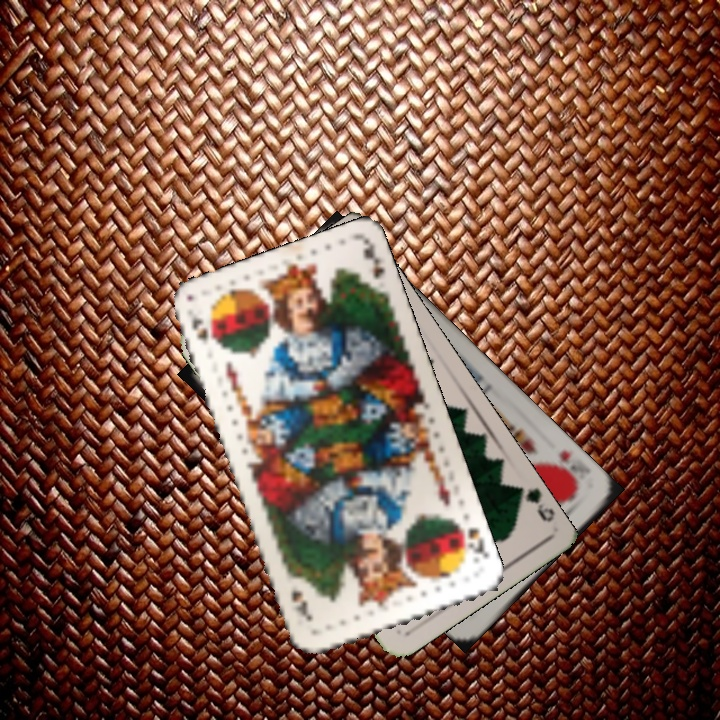G9: (510, 482, 557, 525)
HK: (549, 445, 583, 491)
SK: (450, 518, 491, 567), (188, 312, 216, 346)
